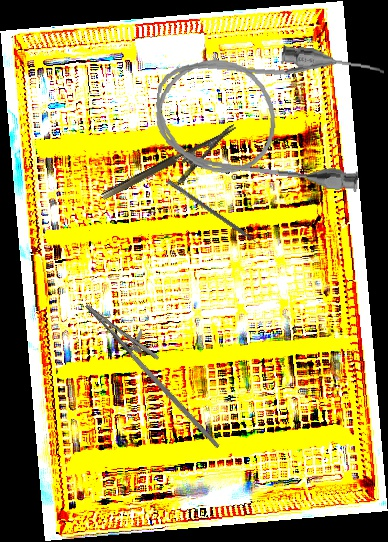Cannula: (149, 32, 386, 194)
Needle Holder: (69, 292, 245, 449), (100, 124, 247, 218)
Spatula Surgical: (164, 179, 266, 252)
